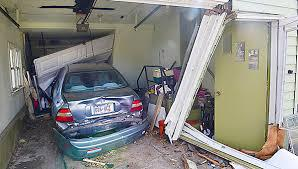boot-dent: (74, 93, 127, 119)
rear-bumper-dent: (63, 123, 120, 148)
